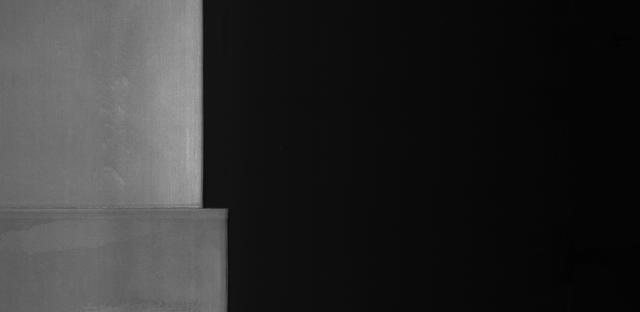welding_line: (3, 195, 246, 220)
